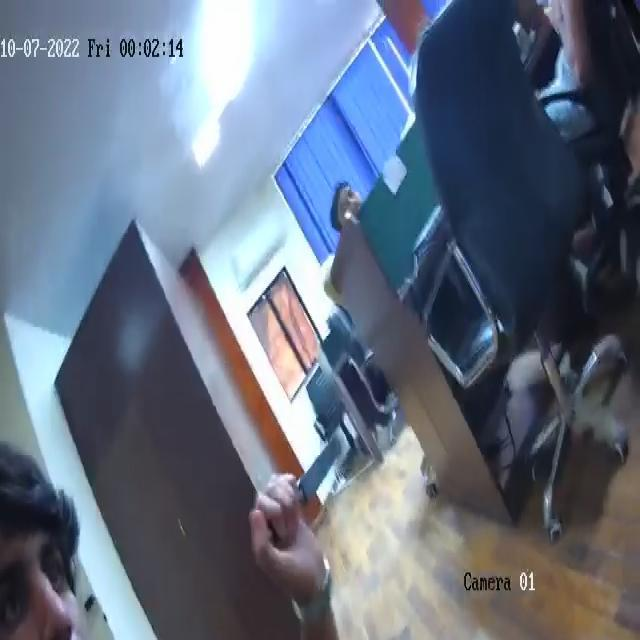Knife: (250, 434, 341, 553)
